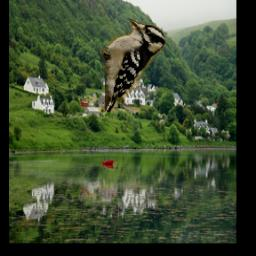Woodpecker: (100, 20, 165, 113)
